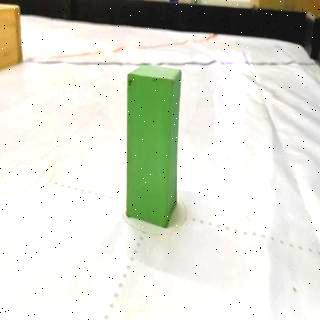greenbox: (124, 64, 184, 230)
